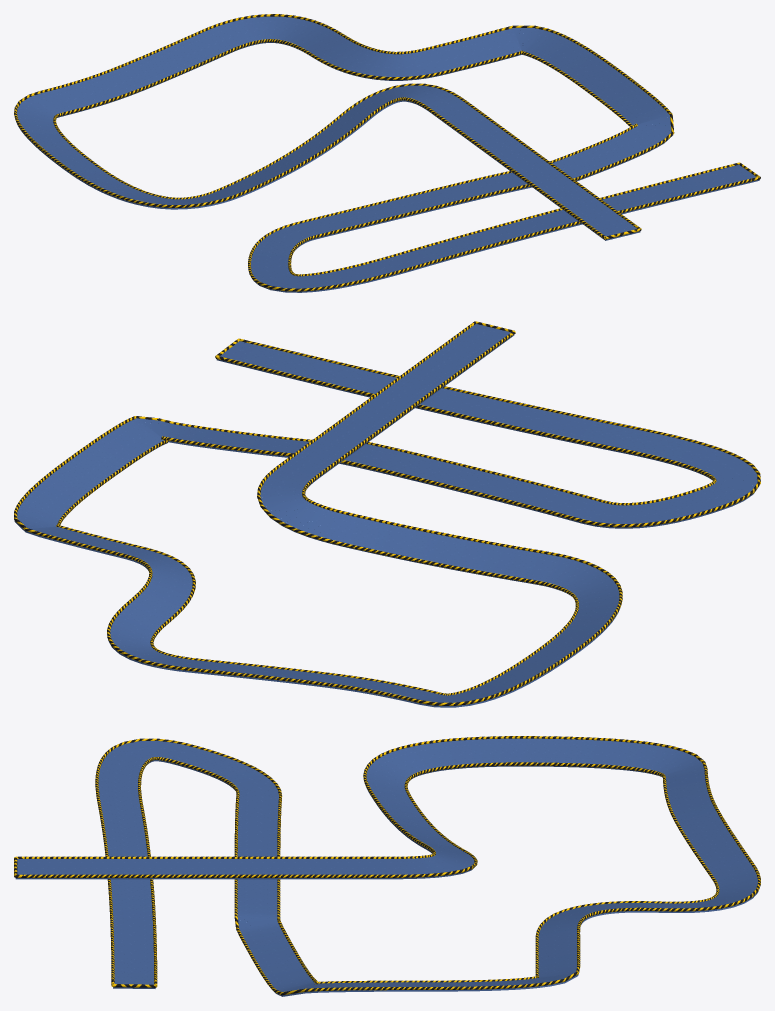
File: Circut3.fbx
3 renders of one model, top to bottom at view 1: azimuth 30°, elevation 25°; view 2: azimuth 150°, elevation 25°; view 3: azimuth 270°, elevation 25°, orthographic. The views are drawn at different scales.
Parts seen in each view (by area): view 1: Cube; view 2: Cube; view 3: Cube.
Boxes of the visible parts, bbox=[...] form: Cube: bbox=[14, 14, 760, 292]; Cube: bbox=[14, 321, 760, 707]; Cube: bbox=[14, 736, 760, 996].
Size of the model in its own units: 11654 by 997 by 13997.
